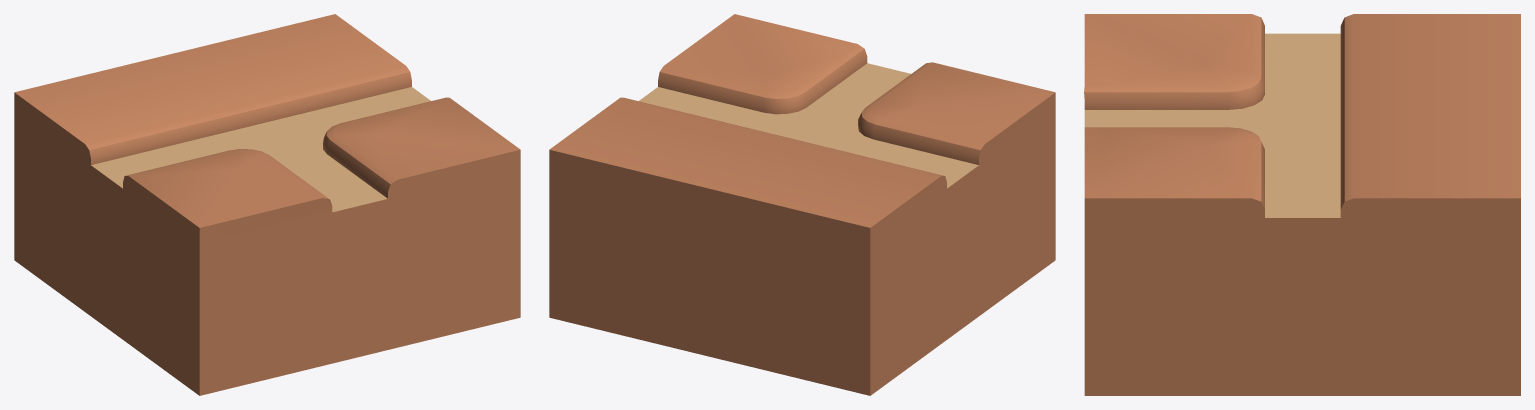
File: square_rock_roadD.glb
3 views of the same model, side by side, from view 1: azimuth 30°, elevation 25°; view 2: azimuth 150°, elevation 25°; view 3: azimuth 270°, elevation 25° (orthographic). The views are drawn at different scales.
Visible parts, largest first — view 1: square_rock_roadD; view 2: square_rock_roadD; view 3: square_rock_roadD.
Boxes of the visible parts, x1,y1,x2,y2 form: square_rock_roadD: (14,14,520,395); square_rock_roadD: (549,14,1055,395); square_rock_roadD: (1084,14,1520,395).
Bounding box in the file's own units: 2 × 1 × 2.
